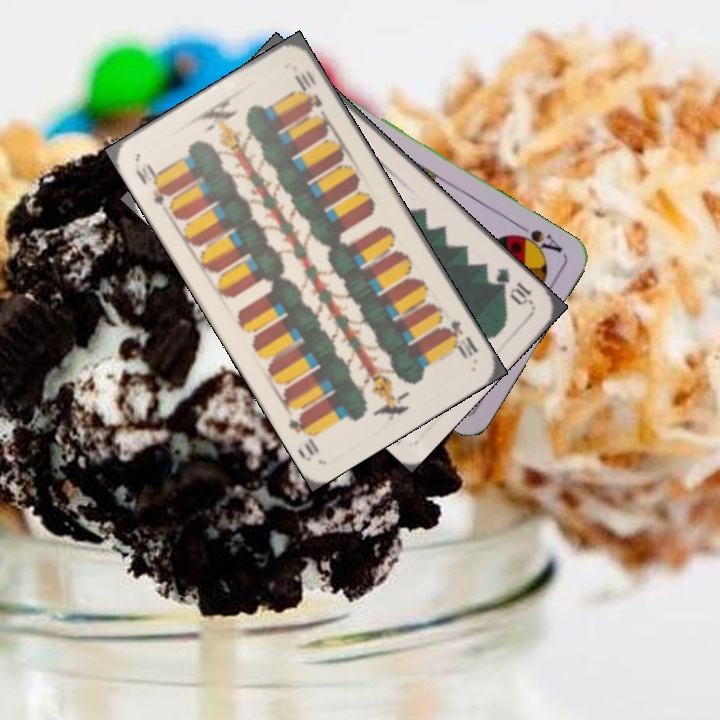E10: (130, 158, 172, 209), (439, 316, 481, 362)
G10: (491, 263, 536, 308)
SA: (507, 219, 565, 259)
